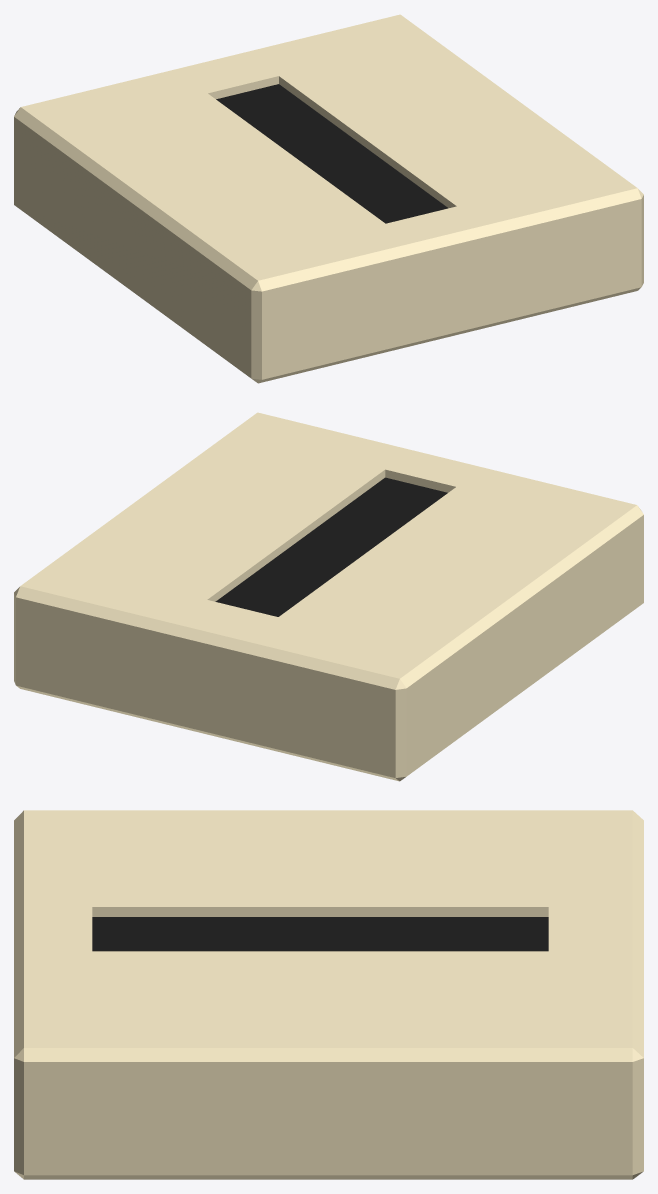
File: Boardgame_Piece_Anagram_Letter_I_01.fbx
3 renders of one model, top to bottom at view 1: azimuth 30°, elevation 25°; view 2: azimuth 150°, elevation 25°; view 3: azimuth 270°, elevation 25°, orthographic. The views are drawn at different scales.
Parts seen in each view (by area): view 1: Boardgame_Piece_Anagram_Letter_I_01; view 2: Boardgame_Piece_Anagram_Letter_I_01; view 3: Boardgame_Piece_Anagram_Letter_I_01.
Boxes of the visible parts, left/top/right/bottom form: Boardgame_Piece_Anagram_Letter_I_01: left=14, top=14, right=643, bottom=383; Boardgame_Piece_Anagram_Letter_I_01: left=14, top=412, right=643, bottom=781; Boardgame_Piece_Anagram_Letter_I_01: left=14, top=810, right=643, bottom=1179.
Bounding box in the file's own units: 39.37 × 9.84 × 42.65.
